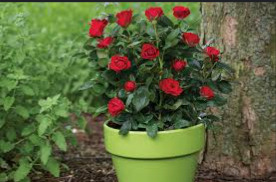RedRose: (108, 54, 131, 72), (160, 78, 183, 96), (107, 95, 126, 116), (89, 18, 105, 39), (171, 5, 191, 21), (142, 44, 159, 61), (144, 7, 162, 23), (181, 33, 201, 46)
